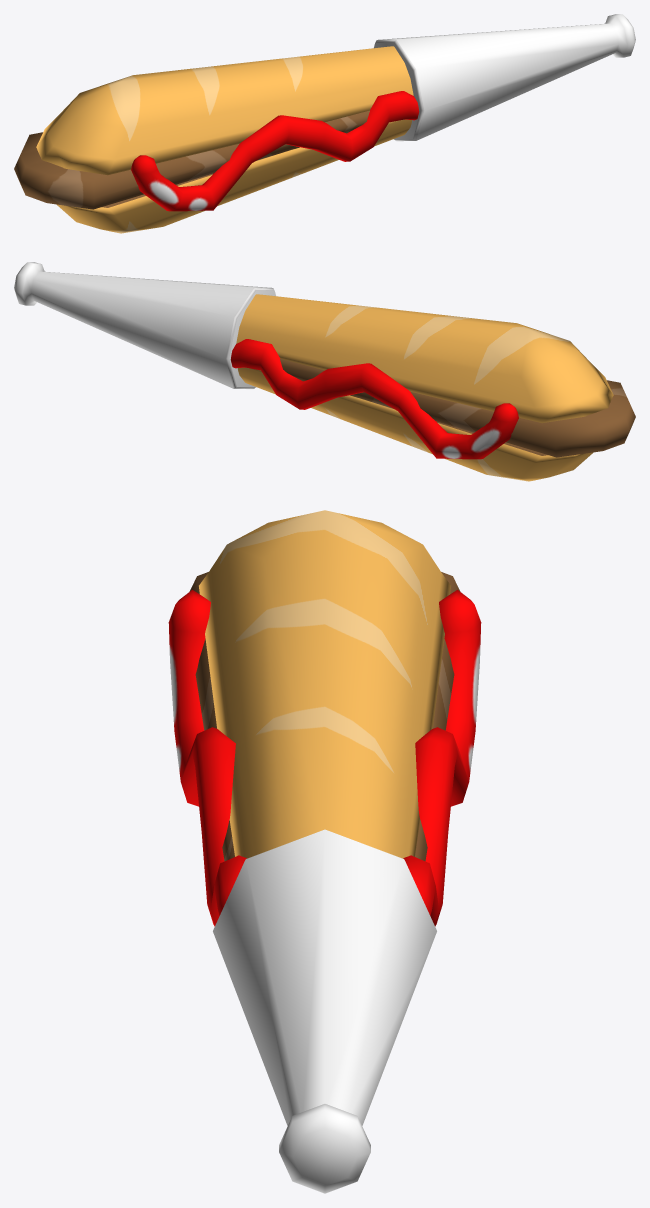
Rendered from bread_sticks.fbx.
3 views of the same model, one above another, from view 1: azimuth 30°, elevation 25°; view 2: azimuth 150°, elevation 25°; view 3: azimuth 270°, elevation 25° (orthographic). The views are drawn at different scales.
Parts seen in each view (by area): view 1: bread sticks; view 2: bread sticks; view 3: bread sticks.
Part boxes in pixels (left/top/right/bottom): bread sticks: left=14, top=14, right=635, bottom=233; bread sticks: left=14, top=262, right=635, bottom=481; bread sticks: left=168, top=510, right=481, bottom=1193.
Bounding box in the file's own units: 41.99 × 10 × 9.32.
